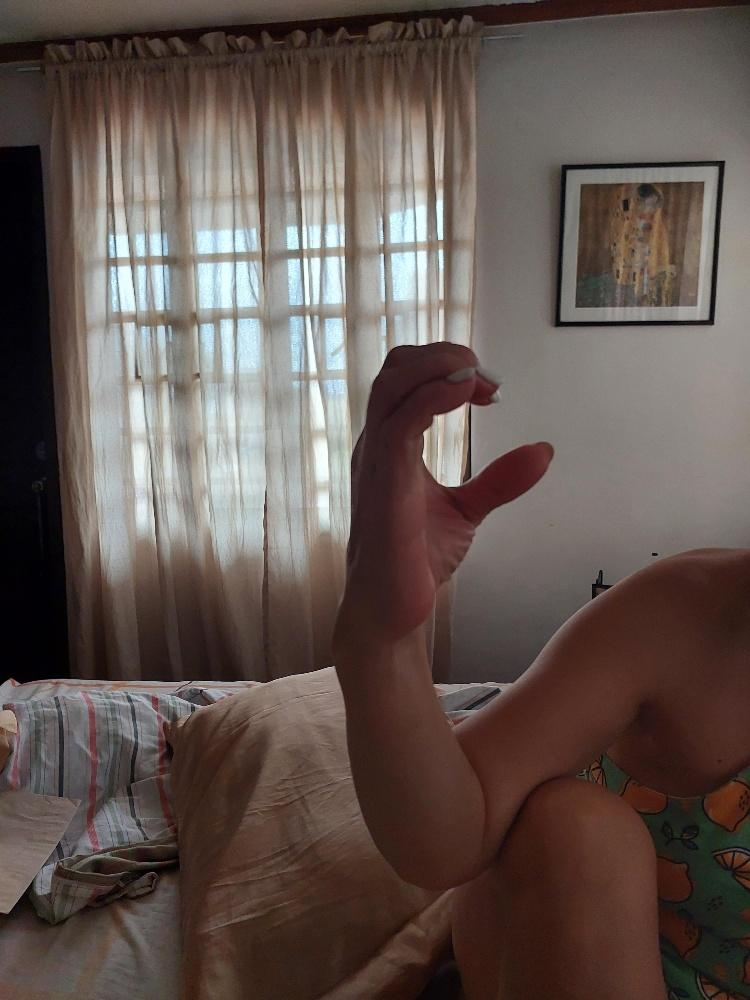c: (344, 338, 556, 630)
